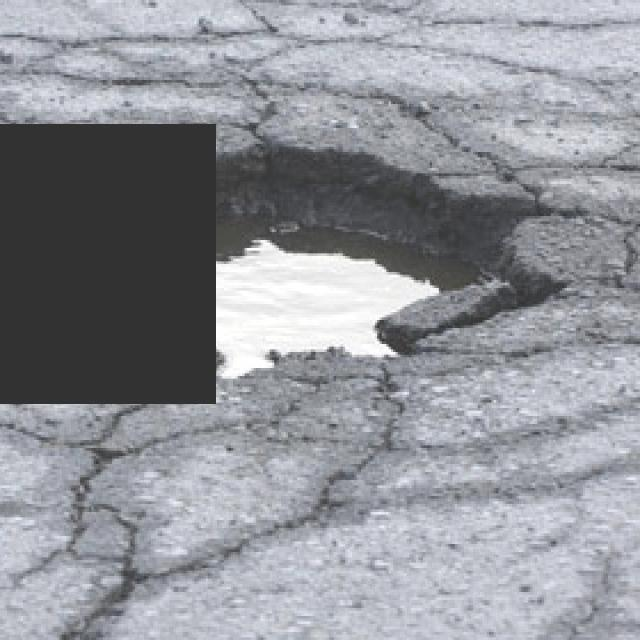road-pothole: (211, 139, 577, 381)
